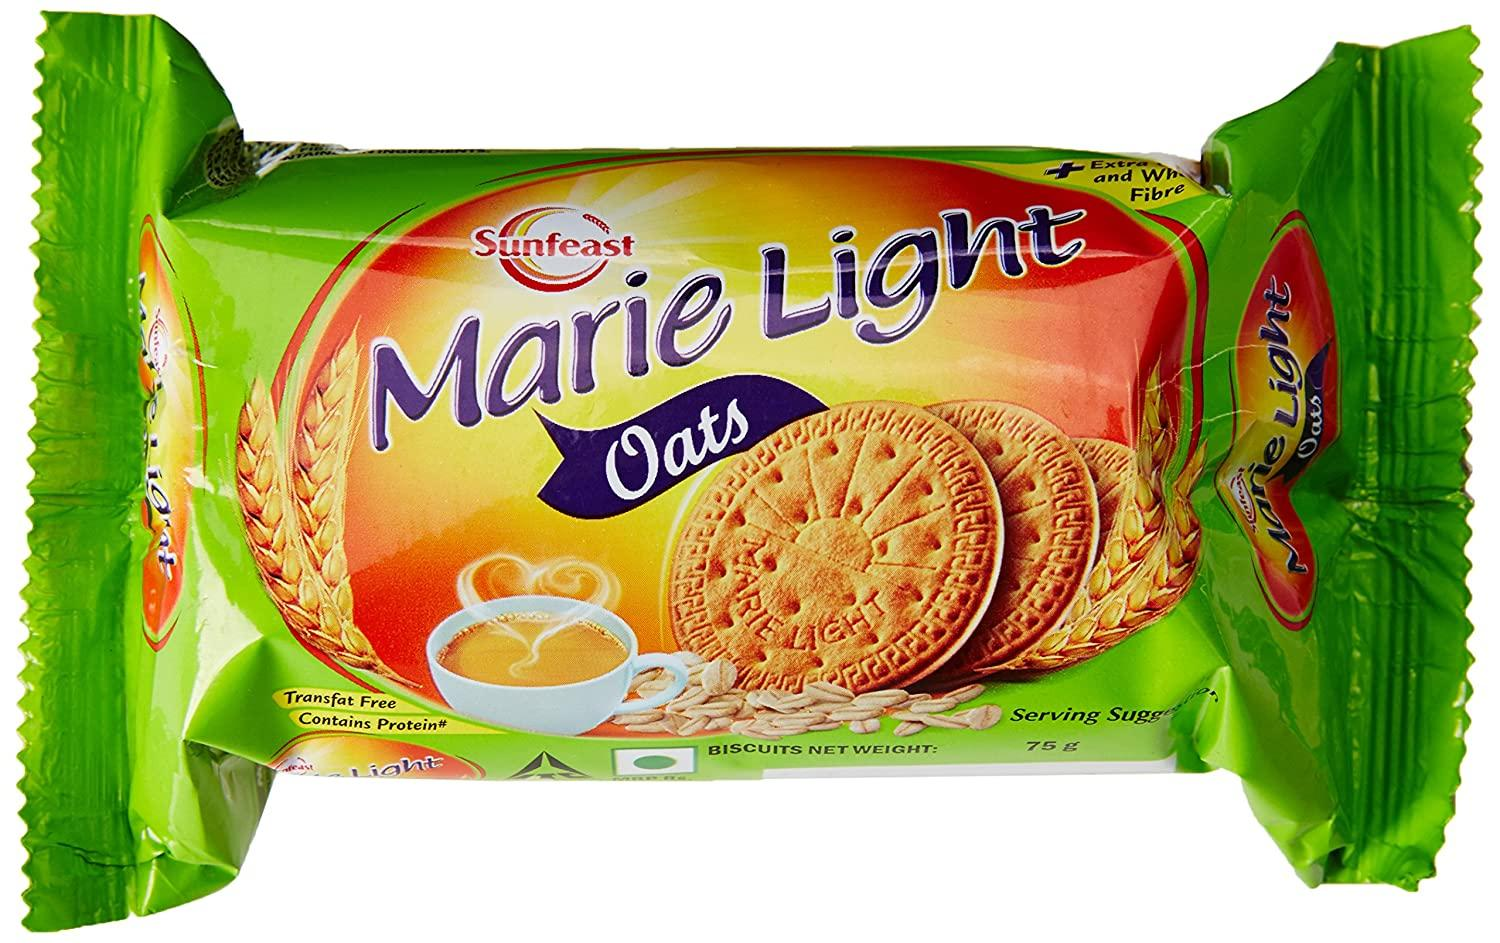MarieLight: (25, 13, 1483, 930)
